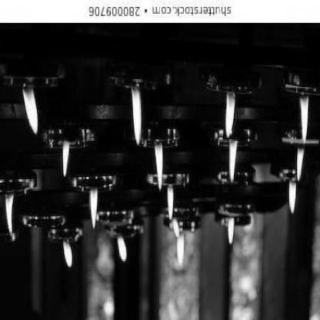Fire: (168, 192, 175, 218)
